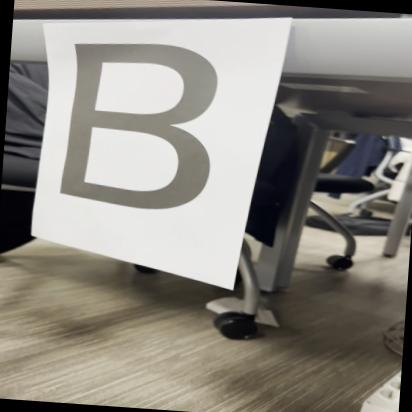seat: (34, 22, 236, 229)
